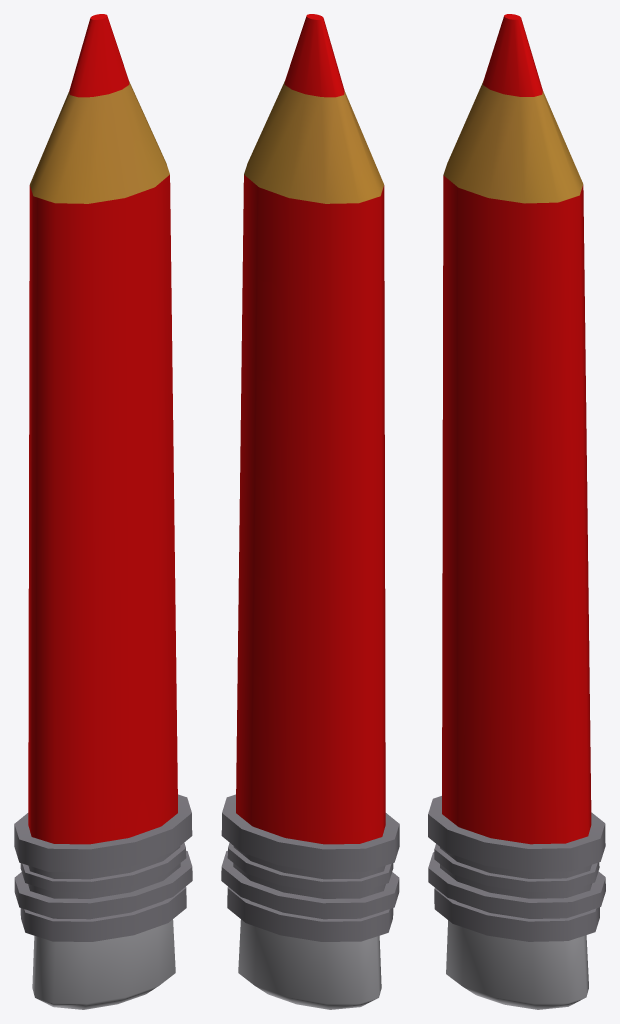
File: Pencil_02.fbx
3 renders of one model, left to right at view 1: azimuth 30°, elevation 25°; view 2: azimuth 150°, elevation 25°; view 3: azimuth 330°, elevation 25°, orthographic.
Parts seen in each view (by area): view 1: Pencil_02; view 2: Pencil_02; view 3: Pencil_02.
Boxes of the visible parts, <box> form: Pencil_02: <box>14,14,192,1009</box>; Pencil_02: <box>221,14,399,1009</box>; Pencil_02: <box>428,14,605,1009</box>.
Bounding box in the file's own units: 5.64 × 3.76 × 31.29.
